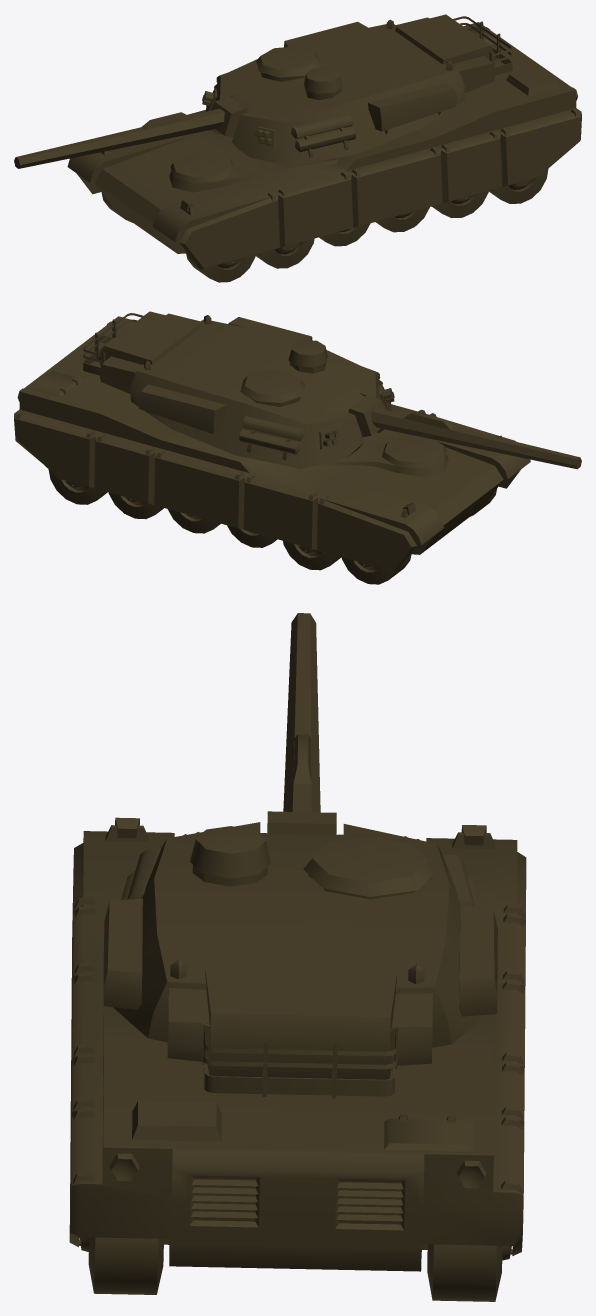
Rendered from tank.dae.
3 renders of one model, top to bottom at view 1: azimuth 30°, elevation 25°; view 2: azimuth 150°, elevation 25°; view 3: azimuth 270°, elevation 25°, orthographic. The views are drawn at different scales.
Visible parts, largest first — view 1: DrawCall_9 (×2), DrawCall_6 (×9), DrawCall_3 (×3), DrawCall_2, DrawCall23, DrawCall26, DrawCall29, DrawCall38, DrawCall35, DrawCall32; view 2: DrawCall_9 (×2), DrawCall_6 (×9), DrawCall_3 (×3), DrawCall_2, DrawCall17, DrawCall20, DrawCall41, DrawCall50, DrawCall47, DrawCall44; view 3: DrawCall_9 (×4), DrawCall_6 (×13), DrawCall_3 (×3), DrawCall20, DrawCall26, DrawCall14 (×2).
Part boxes in pixels (x1,y1,x2,y2): DrawCall_9 (×2): (67, 22, 581, 269); DrawCall_6 (×9): (206, 14, 496, 166); DrawCall_3 (×3): (16, 96, 247, 168); DrawCall_2: (170, 152, 234, 183); DrawCall23: (185, 251, 255, 282); DrawCall26: (488, 169, 548, 203); DrawCall29: (255, 238, 314, 268); DrawCall38: (432, 191, 488, 217); DrawCall35: (375, 207, 429, 232); DrawCall32: (319, 223, 370, 246); DrawCall_9 (×2): (14, 316, 530, 572); DrawCall_6 (×9): (98, 311, 391, 468); DrawCall_3 (×3): (348, 395, 579, 468); DrawCall_2: (382, 435, 446, 468); DrawCall17: (341, 553, 411, 584); DrawCall20: (48, 469, 107, 504); DrawCall41: (283, 541, 341, 570); DrawCall50: (108, 492, 163, 519); DrawCall47: (167, 509, 220, 533); DrawCall44: (227, 525, 277, 547); DrawCall_9 (×4): (69, 831, 526, 1271); DrawCall_6 (×13): (103, 822, 497, 1096); DrawCall_3 (×3): (267, 613, 336, 834); DrawCall20: (427, 1244, 502, 1301); DrawCall26: (88, 1237, 163, 1294); DrawCall14 (×2): (191, 1175, 404, 1224).
Bounding box in the file's own units: 433 × 166 × 126.
